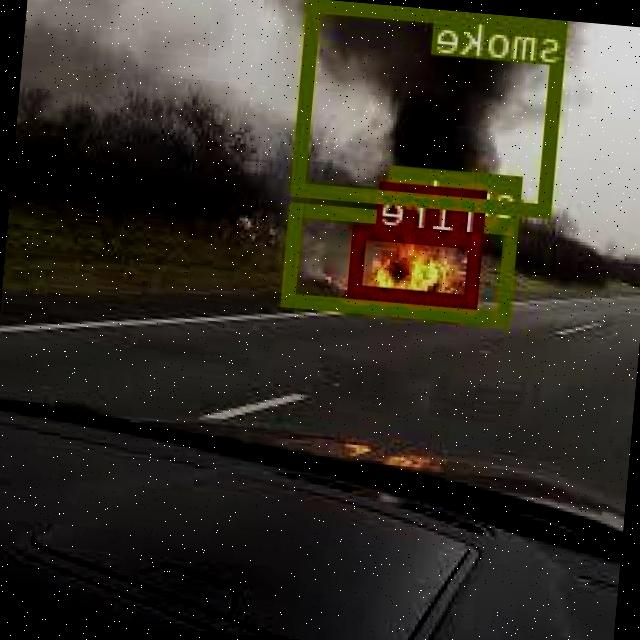fire: (352, 222, 485, 306)
smoke: (294, 0, 569, 216), (285, 202, 520, 322)
